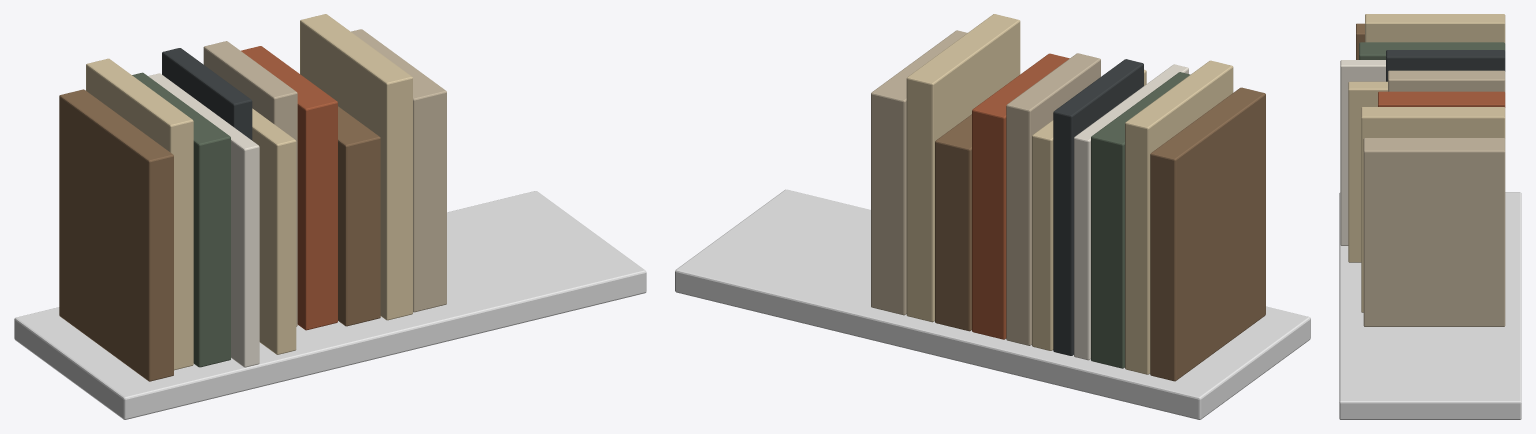
File: wall_shelf__1.glb
3 renders of one model, left to right at view 1: azimuth 30°, elevation 25°; view 2: azimuth 150°, elevation 25°; view 3: azimuth 270°, elevation 25°, orthographic. The views are drawn at different scales.
Visible parts, largest first — view 1: shelf, book, book.009, book.007, book.002, book.001, book.005, book.008, book.010, book.003, book.006, book.004; view 2: shelf, book, book.009, book.001, book.007, book.006, book.010, book.002, book.004, book.008, book.003, book.005; view 3: book.010, shelf, book.009, book.001, book.005, book.006, book.004, book.003, book.007, book.002, book.
Part boxes in pixels (<box>): shelf: <box>14,191,646,419</box>; book: <box>59,89,173,381</box>; book.009: <box>300,14,412,320</box>; book.007: <box>241,46,337,330</box>; book.002: <box>132,72,230,367</box>; book.001: <box>86,58,193,370</box>; book.005: <box>252,108,296,354</box>; book.008: <box>338,106,380,326</box>; book.010: <box>351,29,446,312</box>; book.003: <box>148,73,259,367</box>; book.006: <box>203,41,297,326</box>; book.004: <box>162,48,252,140</box>; shelf: <box>675,189,1310,419</box>; book: <box>1150,87,1265,381</box>; book.009: <box>906,14,1020,322</box>; book.001: <box>1125,60,1233,374</box>; book.007: <box>972,53,1069,339</box>; book.006: <box>1006,53,1100,345</box>; book.010: <box>871,30,967,315</box>; book.002: <box>1091,72,1190,368</box>; book.004: <box>1053,59,1143,355</box>; book.008: <box>935,114,971,331</box>; book.003: <box>1074,64,1188,360</box>; book.005: <box>1032,69,1146,350</box>; book.010: <box>1363,138,1505,326</box>; shelf: <box>1339,192,1521,419</box>; book.009: <box>1361,107,1505,312</box>; book.001: <box>1365,14,1505,43</box>; book.005: <box>1348,81,1387,262</box>; book.006: <box>1388,70,1505,92</box>; book.004: <box>1386,50,1505,81</box>; book.003: <box>1340,60,1385,245</box>; book.007: <box>1378,91,1505,107</box>; book.002: <box>1359,42,1505,59</box>; book: <box>1356,23,1364,59</box>.
Bounding box in the file's own units: 0.6 × 0.2947 × 0.22.
